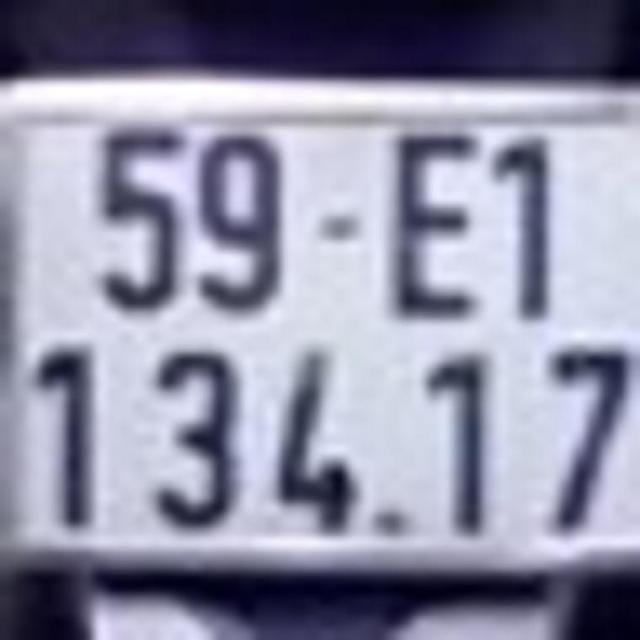1: (490, 122, 557, 321), (424, 342, 492, 535), (41, 340, 106, 530)
3: (150, 345, 240, 530)
4: (261, 336, 352, 532)
5: (100, 128, 187, 324)
7: (544, 340, 634, 538)
9: (196, 126, 285, 316)
E: (391, 122, 484, 324)
